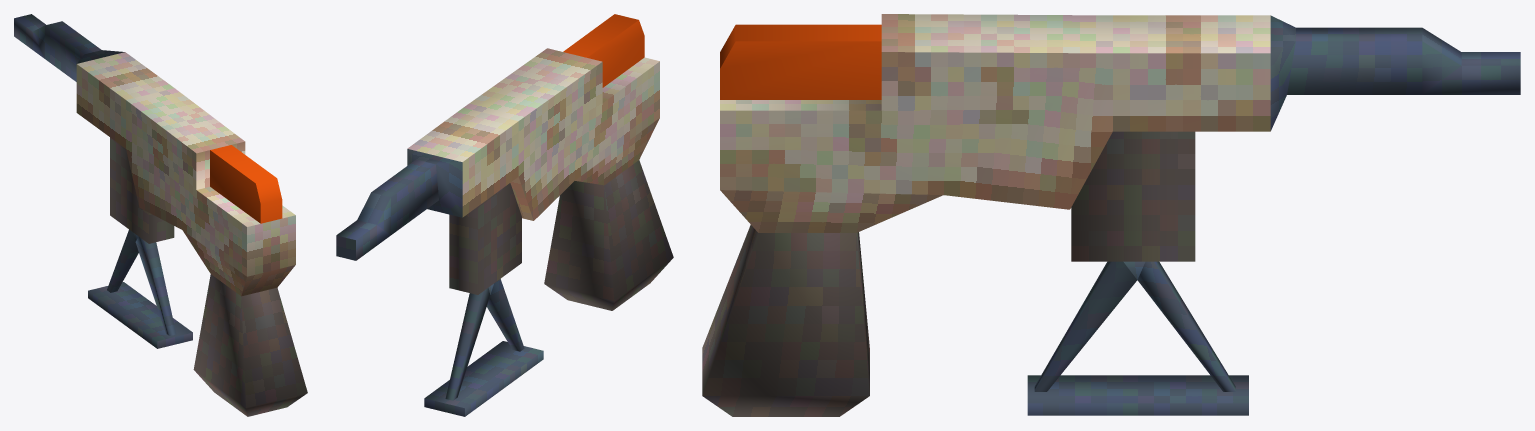
The model's file is wep_pistol.glb.
3 views of the same model, side by side, from view 1: azimuth 30°, elevation 25°; view 2: azimuth 150°, elevation 25°; view 3: azimuth 270°, elevation 25° (orthographic). The views are drawn at different scales.
Visible parts, largest first — view 1: Light; view 2: Light; view 3: Light.
Part boxes in pixels (x1,y1,x2,y2): Light: (14, 14, 307, 416); Light: (336, 14, 673, 416); Light: (702, 14, 1520, 416).
Size of the model in its own units: 0.0346 by 0.1232 by 0.2479.
2 materials, 1 textured.
